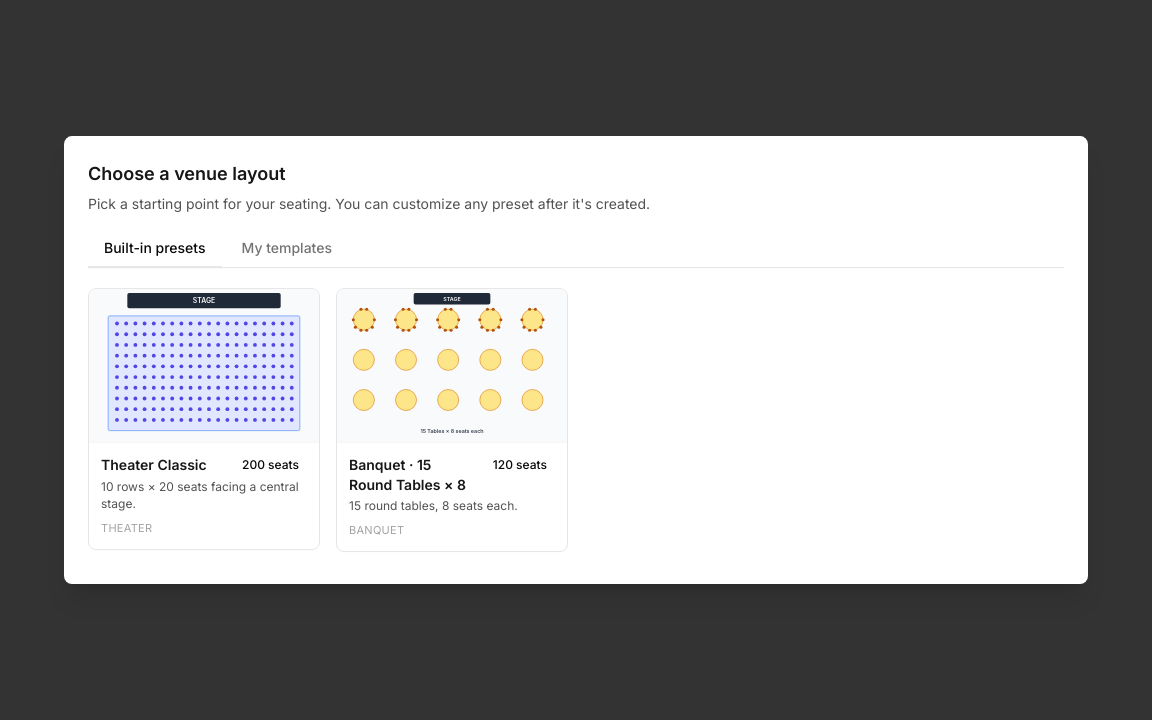
Test: PresetLibraryModal — Mine tab (S8.10) › renders a card per saved template with name, layoutType, and capacity
Click the tab with test id "preset-modal-tab-mine": (287, 249) 226,230 -> 348,268
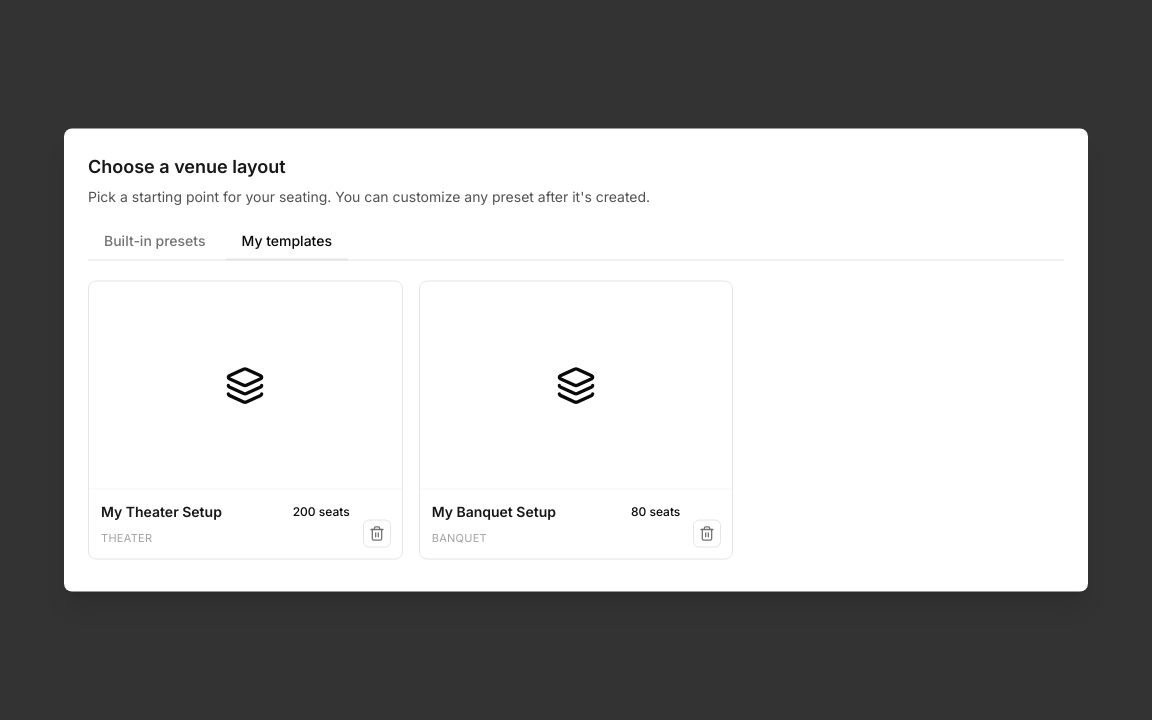
Result: the button with test id "mine-card-tmpl-1" is shown at 88,280 -> 403,559
Result: the button with test id "mine-card-tmpl-2" is shown at 419,280 -> 733,559
Result: the heading "My Theater Setup" is shown at 101,502 -> 222,521
